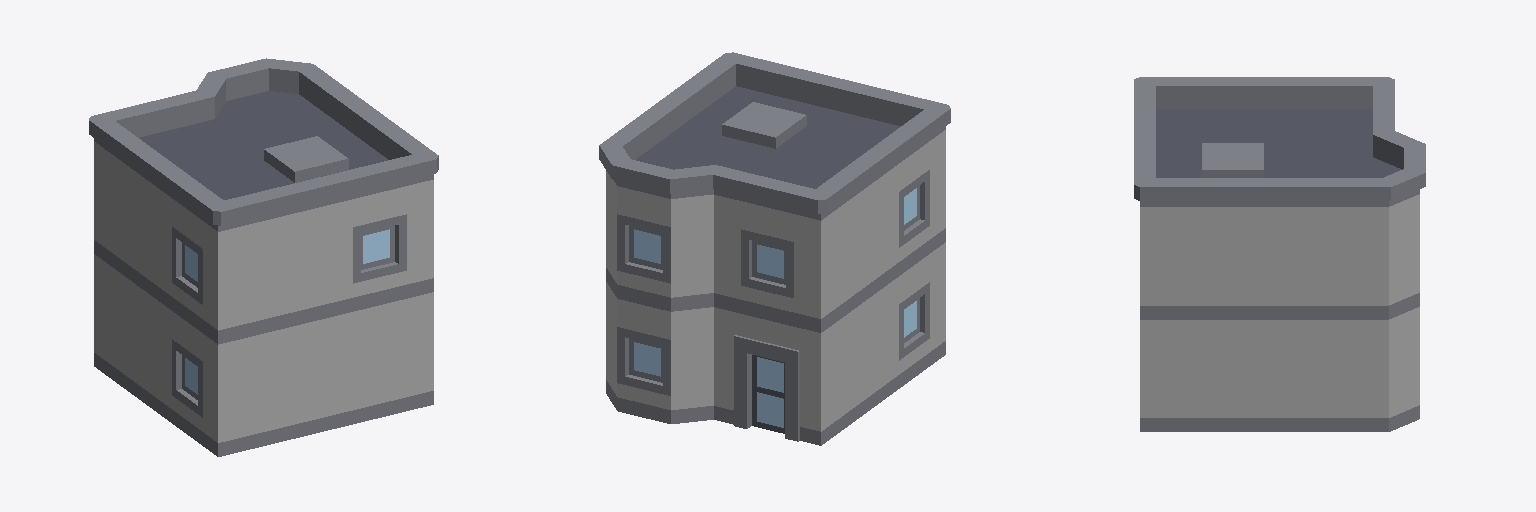
File: city_shop_b.obj
3 renders of one model, left to right at view 1: azimuth 30°, elevation 25°; view 2: azimuth 150°, elevation 25°; view 3: azimuth 270°, elevation 25°, orthographic.
Parts seen in each view (by area): view 1: mergedBlocks; view 2: mergedBlocks; view 3: mergedBlocks.
Part boxes in pixels (x1,y1,x2,y2): mergedBlocks: (89, 58, 438, 456); mergedBlocks: (599, 52, 950, 445); mergedBlocks: (1134, 77, 1425, 431).
Size of the model in its own units: 0.5376 by 0.5632 by 0.6016.